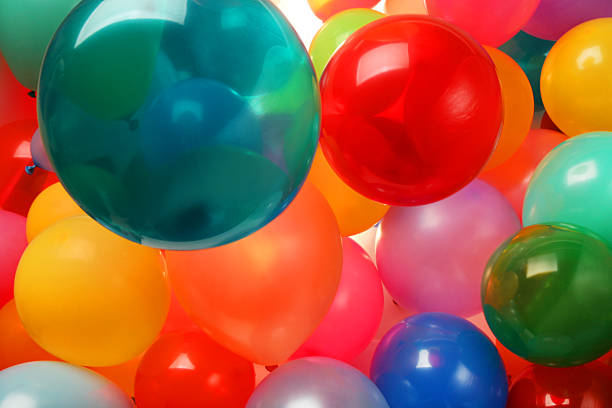Balloon: (37, 1, 321, 251), (315, 14, 503, 205), (15, 214, 169, 365), (479, 220, 612, 365), (371, 310, 508, 408), (136, 333, 255, 408), (538, 17, 612, 135)
